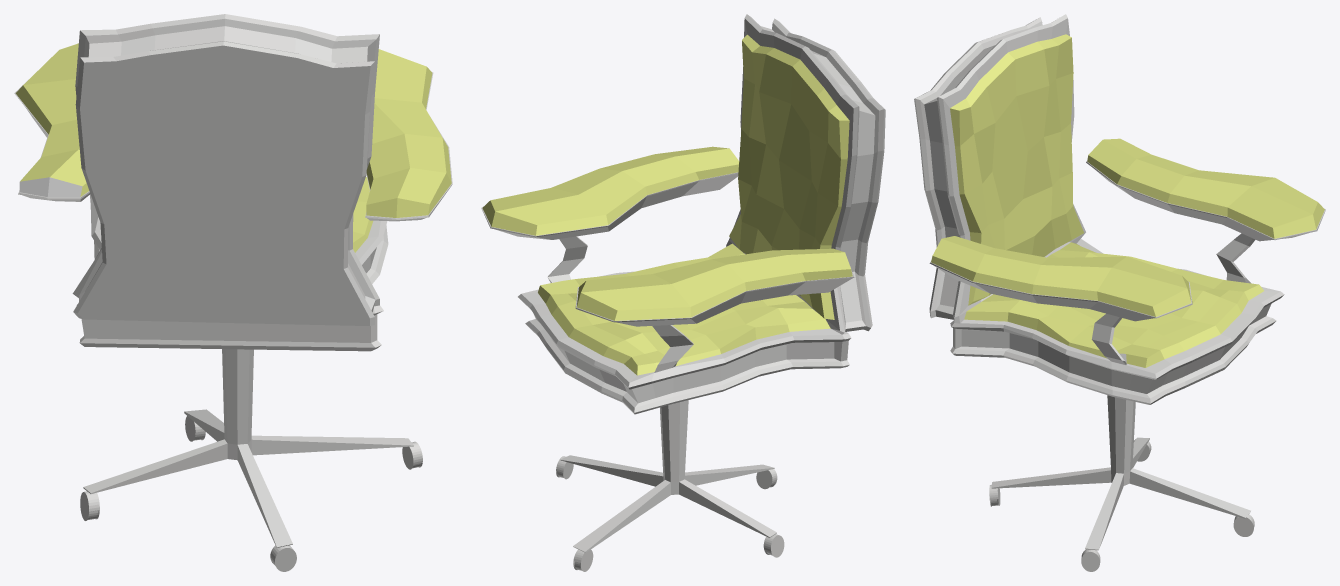
File: poltrona.fbx
3 renders of one model, left to right at view 1: azimuth 30°, elevation 25°; view 2: azimuth 150°, elevation 25°; view 3: azimuth 270°, elevation 25°, orthographic. The views are drawn at different scales.
Visible parts, largest first — view 1: Cube; view 2: Cube; view 3: Cube.
Boxes of the visible parts, box(x1,y1,x2,y2) form: Cube: box(14, 14, 452, 571); Cube: box(481, 14, 885, 571); Cube: box(914, 14, 1325, 571).
Size of the model in its own units: 526 by 651 by 541.
